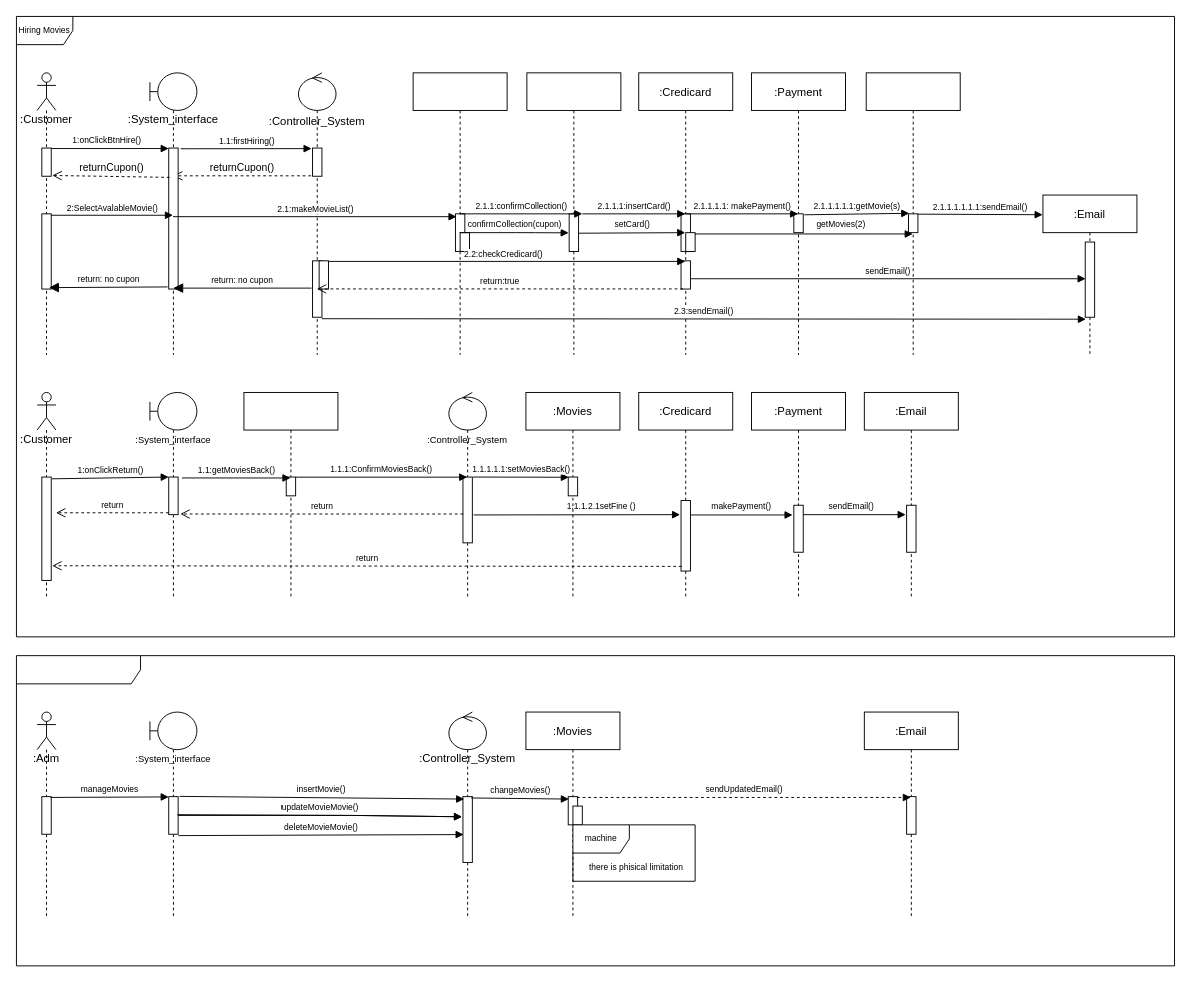
This 1191x982 diagram has some shape labels left out. The shapes that lost their labels are listed below. From the top down, each one's box as (x1, y1, x2, y2) in pixels, then its label:
(412, 72, 507, 355): :MovieCollection
(526, 72, 621, 355): :Cart
(865, 72, 960, 355): :MovieSent
(243, 392, 338, 599): :BascketCollector
(16, 655, 1175, 966): ADM management
